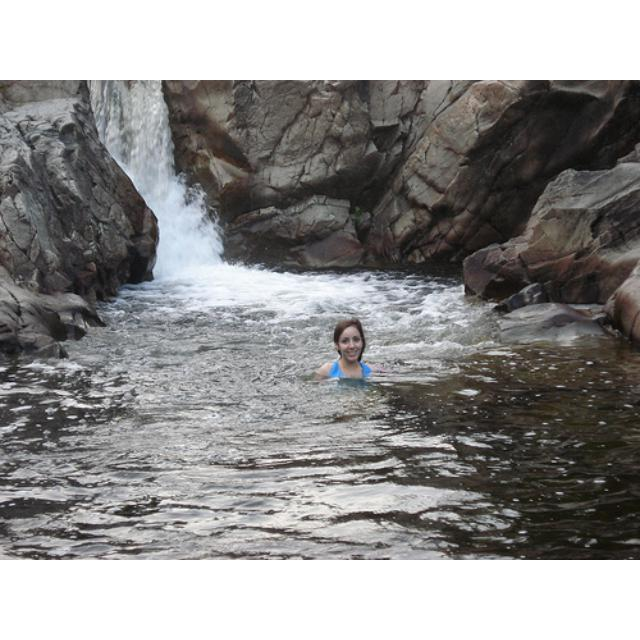human: (314, 315, 379, 387)
